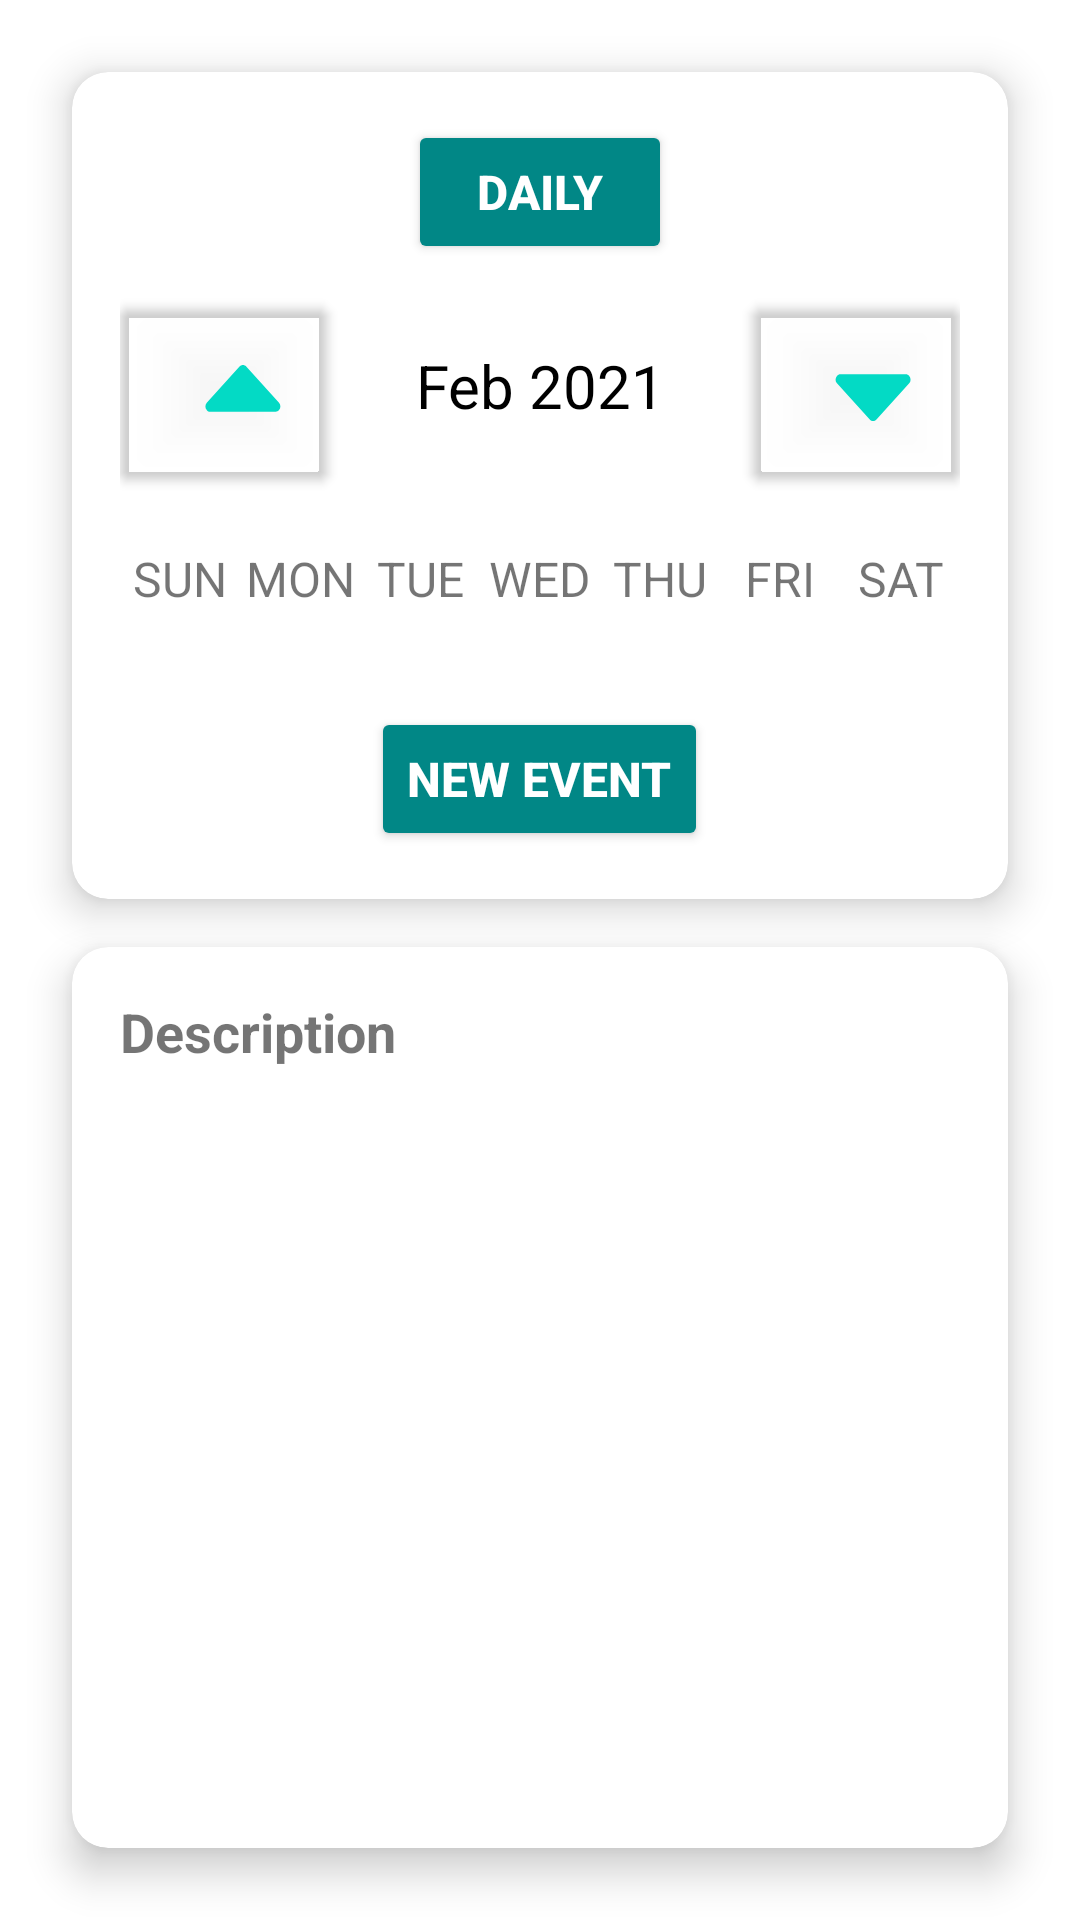

Icon click points for this 1080*1920 phone screenshot, format (x=x, y=y):
arrow down: (x=856, y=394)
arrow up: (x=223, y=394)
